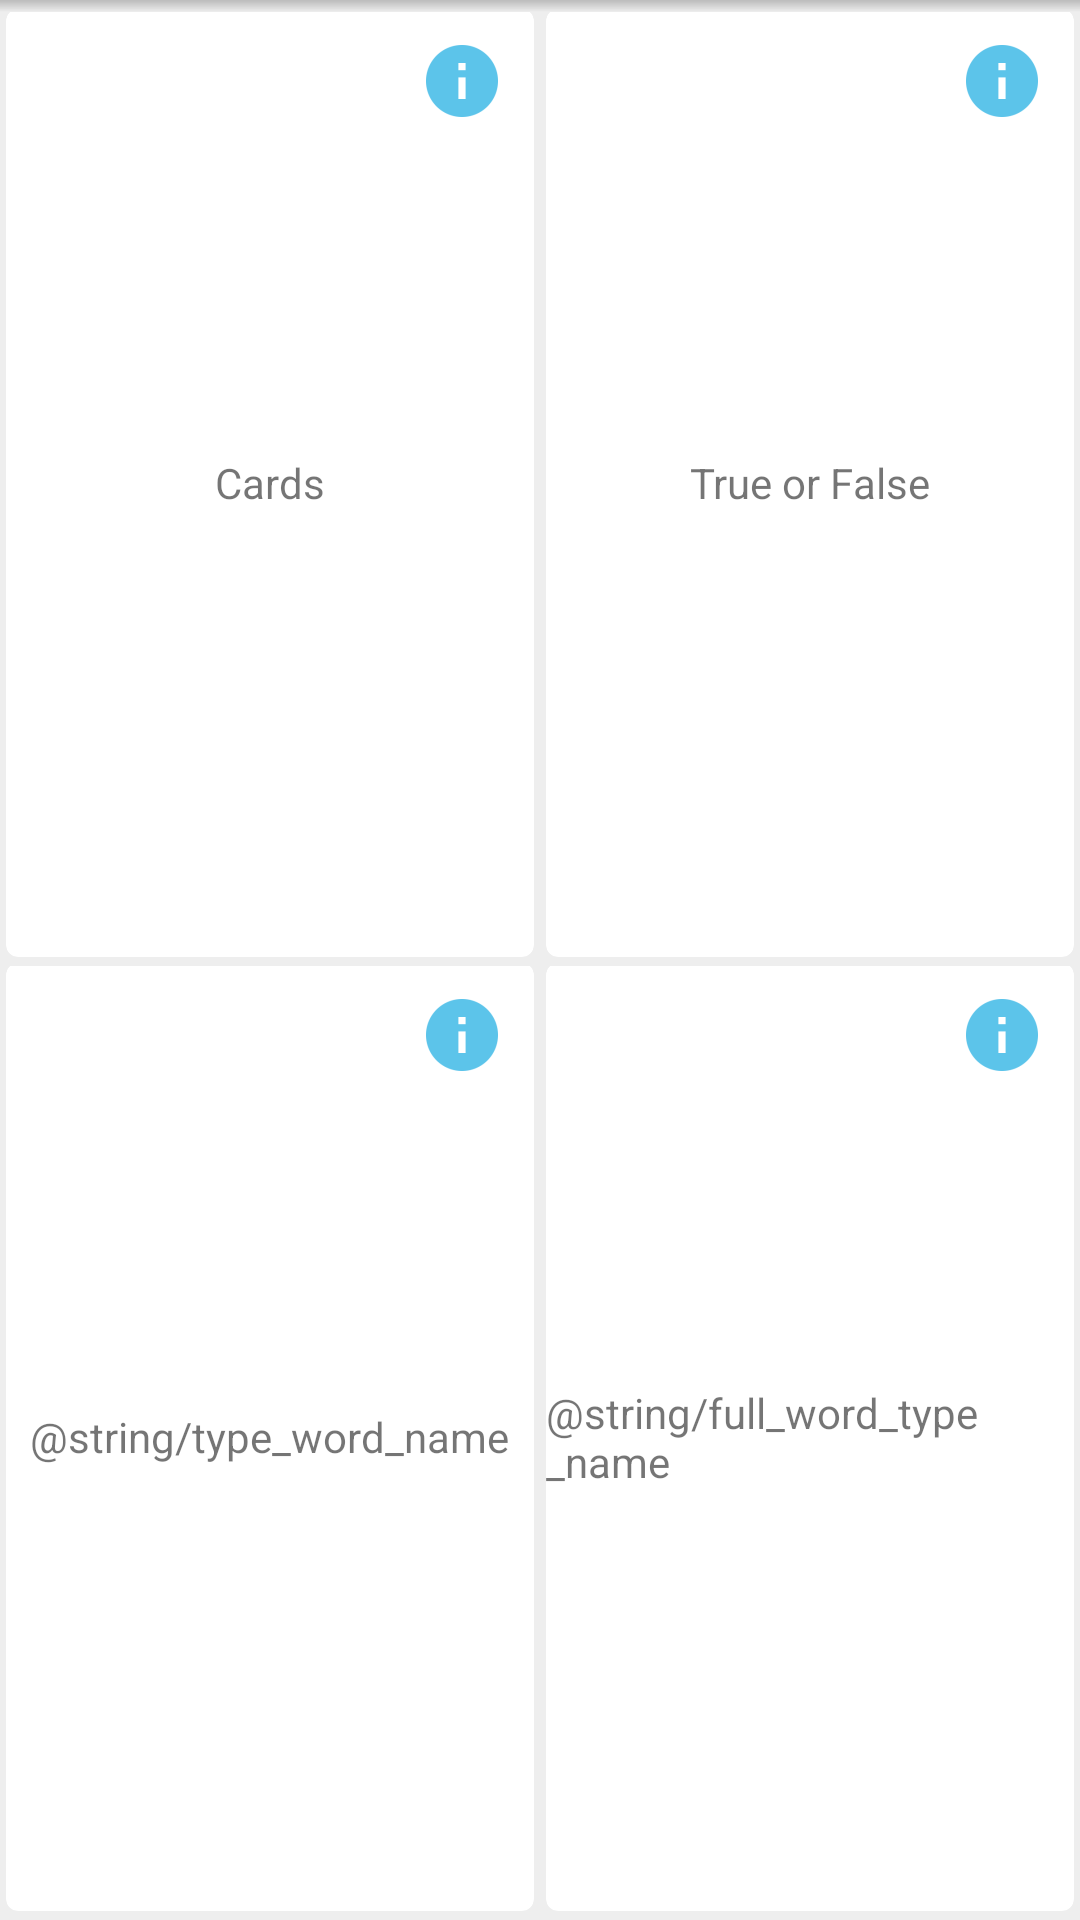

Where icons sit on this 1080px×1920px app screen, as (x1, y1, x2, y2):
Info: (426, 45, 498, 117), (966, 45, 1038, 117), (426, 999, 498, 1071), (966, 999, 1038, 1071)
